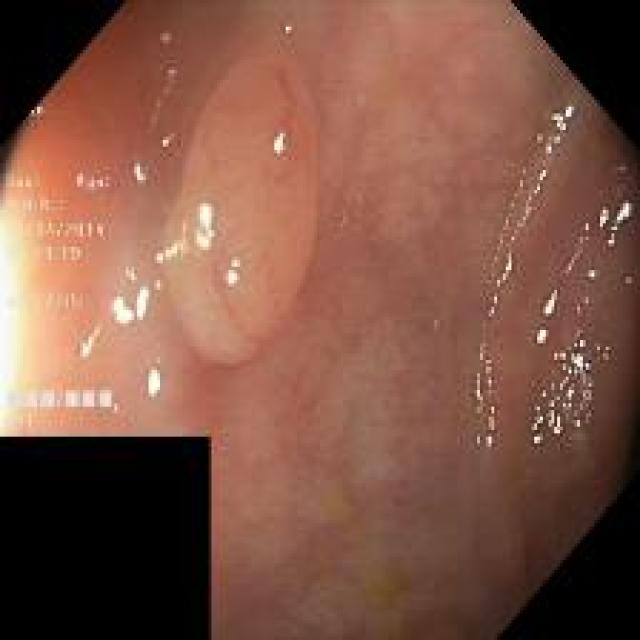Polyps: (156, 45, 319, 365)
